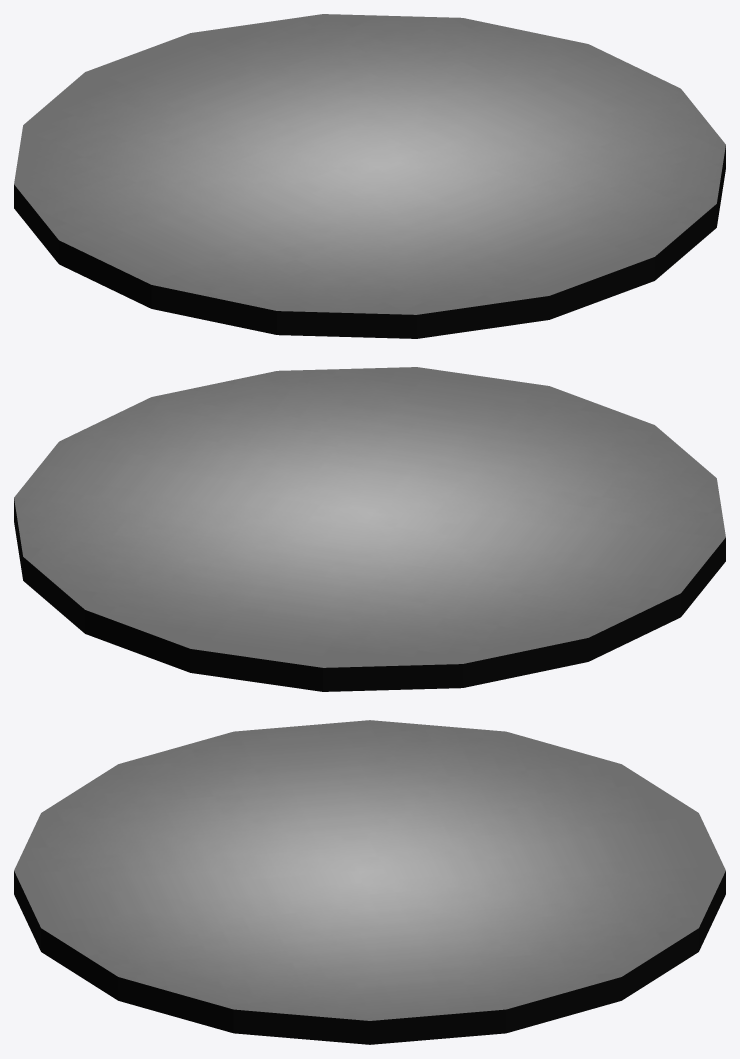
File: bulletDiskgun.fbx
The picture shows the model from 3 angles, top to bottom: view 1: azimuth 30°, elevation 25°; view 2: azimuth 150°, elevation 25°; view 3: azimuth 270°, elevation 25°; orthographic projection.
Parts seen in each view (by area): view 1: Цилиндр; view 2: Цилиндр; view 3: Цилиндр.
Boxes of the visible parts, box(x1,y1,x2,y2) form: Цилиндр: box(14, 14, 725, 338); Цилиндр: box(14, 367, 725, 691); Цилиндр: box(14, 720, 725, 1044).
Bounding box in the file's own units: 2 × 0.0739 × 2.
